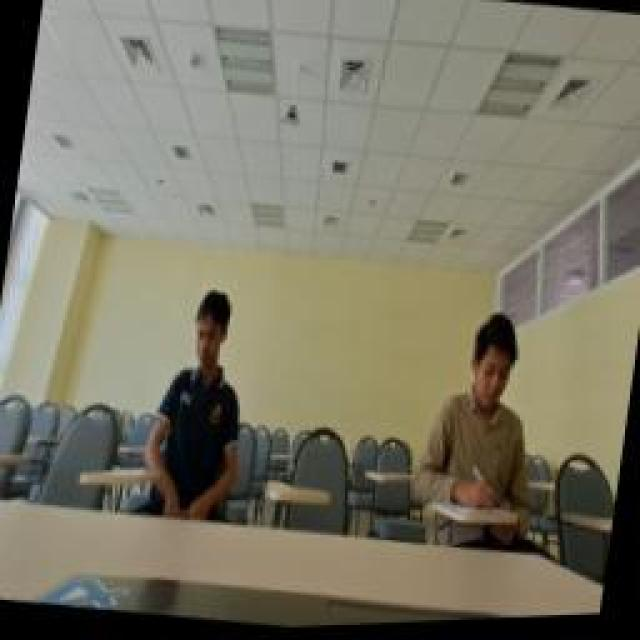study: (405, 295, 553, 517), (140, 270, 265, 490)
